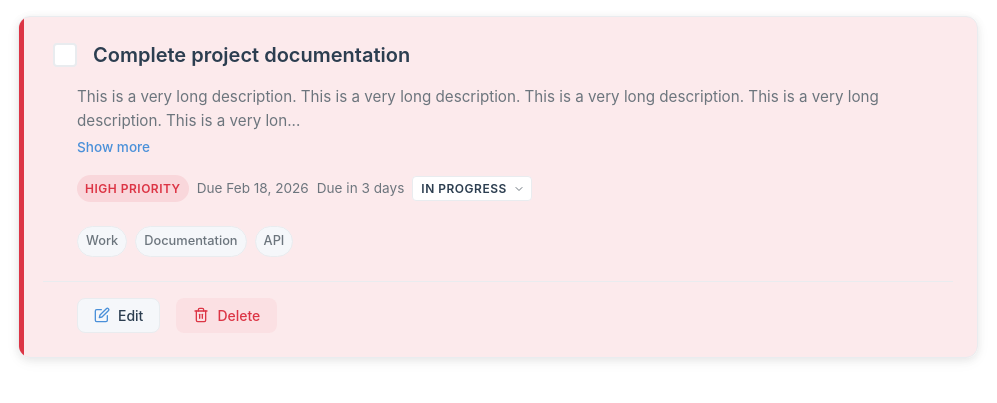
Test: TodoCard › Expand/Collapse › expand toggle shows full description when clicked
Click the button with test id "test-todo-expand-toggle" at coordinates (114, 147), box x1=77 y1=135 x2=150 y2=159
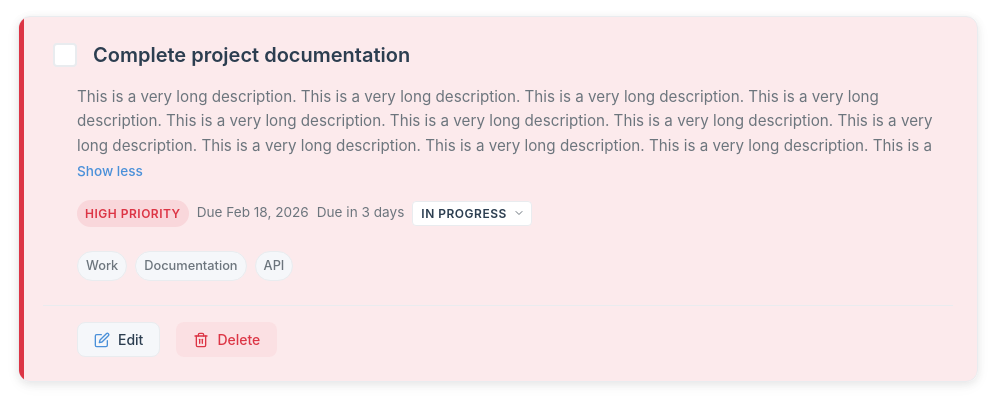
Result: the button with test id "test-todo-expand-toggle" reads "Show less" at x1=77 y1=159 x2=143 y2=183
